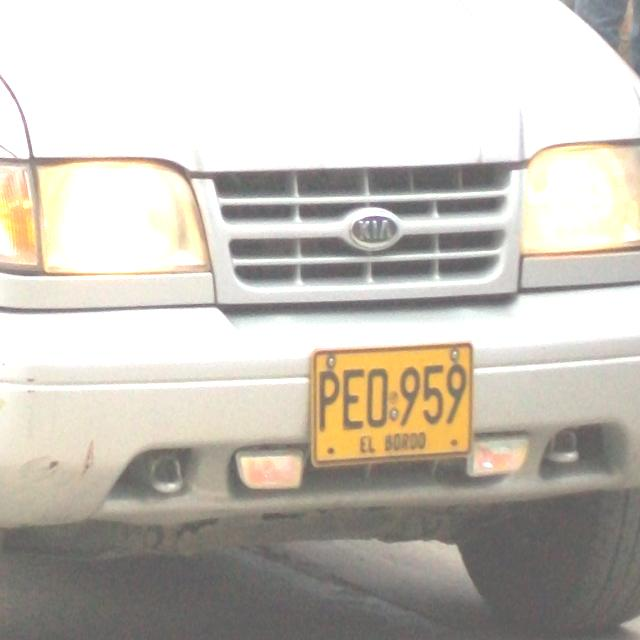placa: (306, 335, 475, 470)
